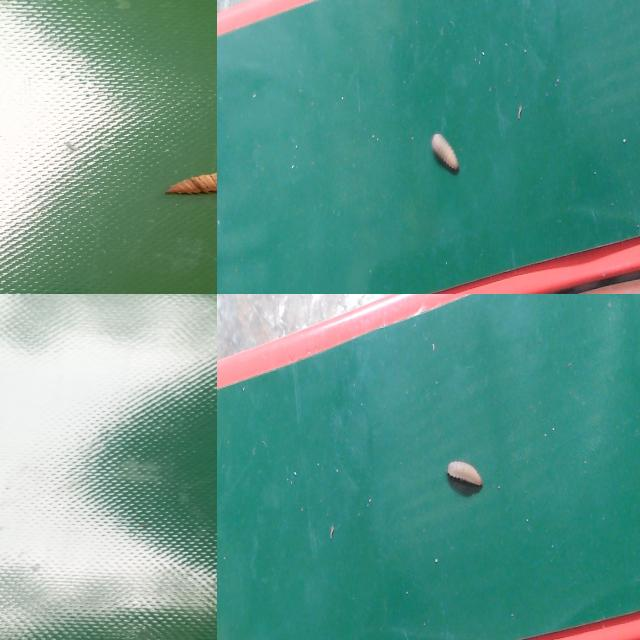Maggot: (446, 460, 484, 498), (429, 133, 460, 176), (166, 171, 217, 197)
